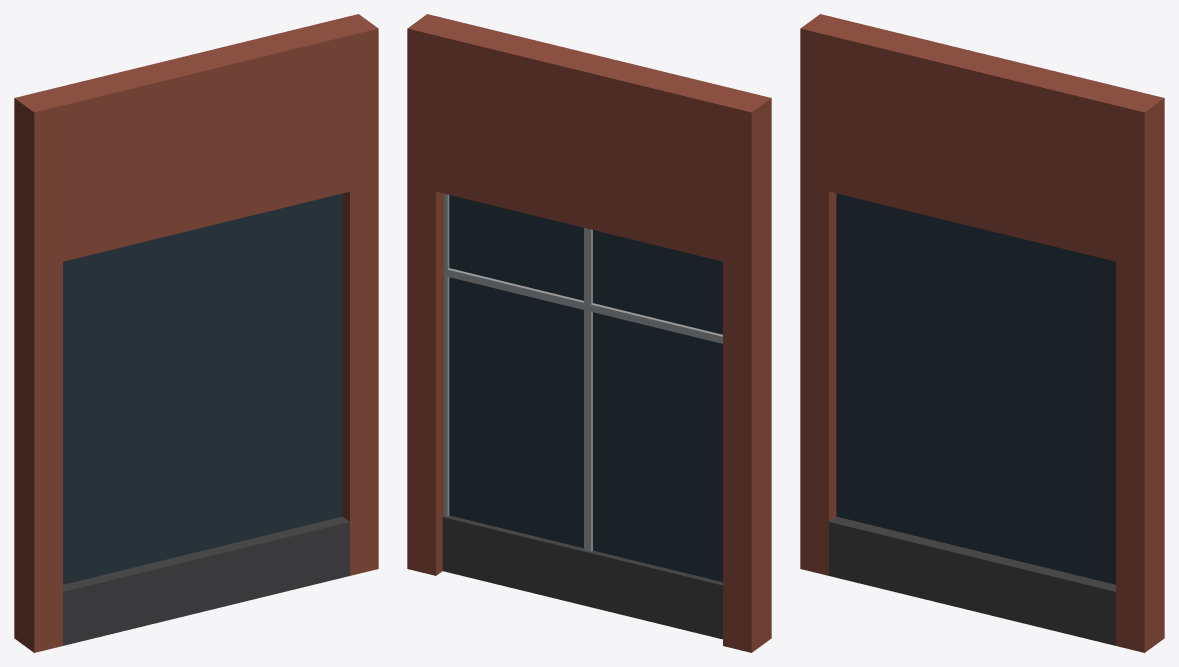
File: fk_storefront_g45.glb
3 renders of one model, left to right at view 1: azimuth 30°, elevation 25°; view 2: azimuth 150°, elevation 25°; view 3: azimuth 330°, elevation 25°, orthographic.
Parts seen in each view (by area): view 1: fk_storefront_g45-col; view 2: fk_storefront_g45-col; view 3: fk_storefront_g45-col.
Part boxes in pixels (x1,y1,x2,y2): fk_storefront_g45-col: (14, 14, 378, 652); fk_storefront_g45-col: (407, 14, 771, 652); fk_storefront_g45-col: (800, 14, 1164, 652).
Size of the model in its own units: 3 by 4.5 by 0.3.
